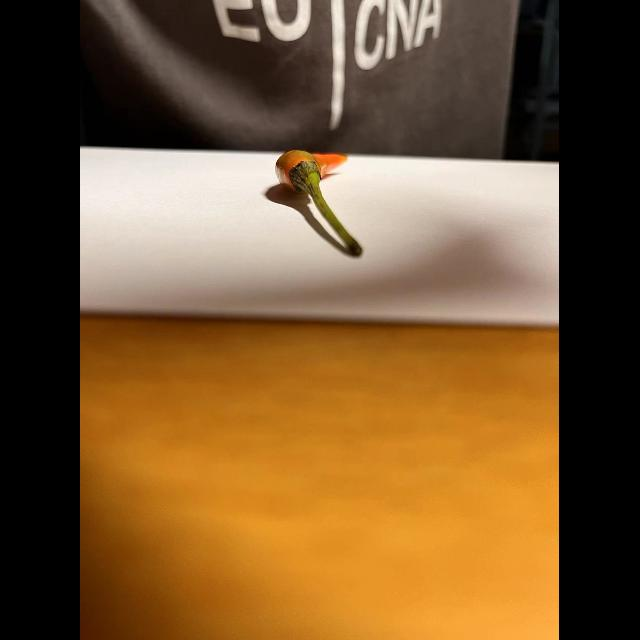chili_pepper: (264, 150, 379, 258)
